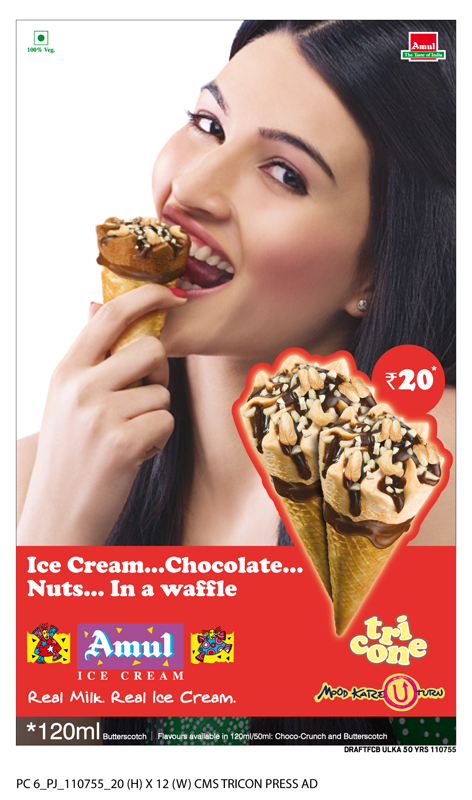Amul: (81, 626, 172, 666)
